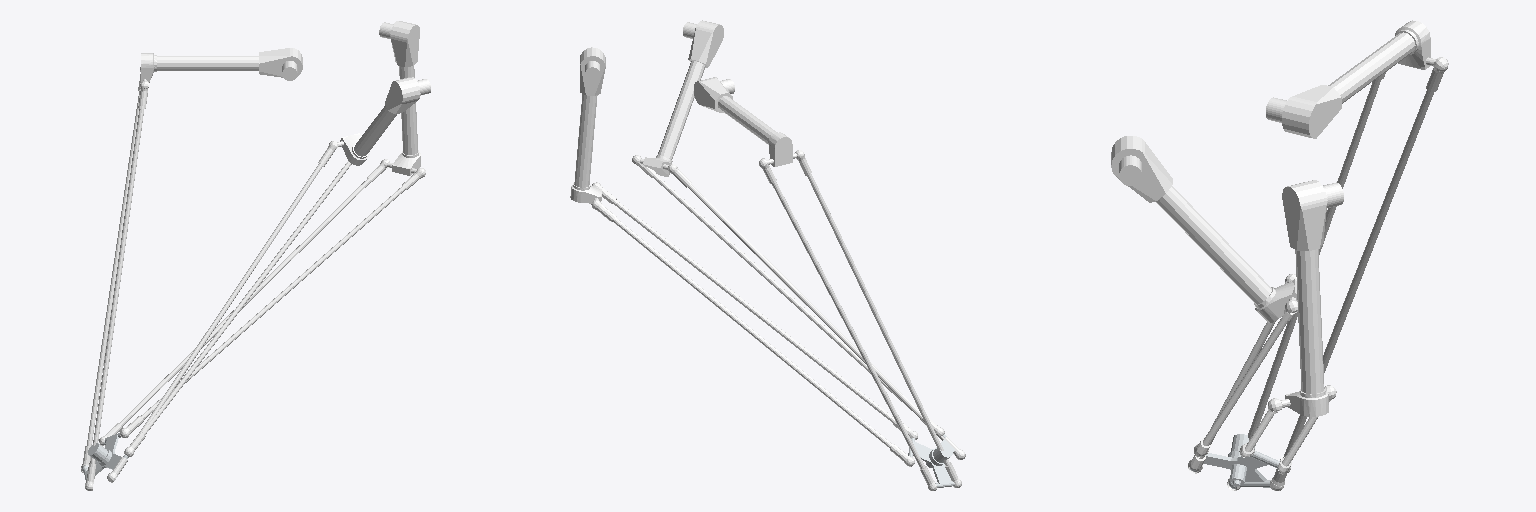
The robot description file, URDF, robot "delta5":
<?xml version="1.0" encoding="utf-8"?>
<!-- This URDF was automatically created by SolidWorks to URDF Exporter! Originally created by [author] ([email redacted]) 
     Commit Version: 1.6.0-1-g15f4949  Build Version: 1.6.7594.29634
     For more information, please see http://wiki.ros.org/sw_urdf_exporter -->
<robot
  name="delta5">
  <link
    name="base_link">
    <inertial>
      <origin
        xyz="0.380382318022096 -0.533525803977991 0.659302446320337"
        rpy="0 0 0" />
      <mass
        value="156.162689770185" />
      <inertia
        ixx="7.59889681143528"
        ixy="9.24660486503447E-05"
        ixz="-0.000259409545019094"
        iyy="7.59824264740178"
        iyz="0.000102275137498766"
        izz="10.3617884952824" />
    </inertial>
    <visual>
      <origin
        xyz="0 0 0"
        rpy="0 0 0" />
      <geometry>
        <mesh
          filename="package://delta5/meshes/base_link.STL" />
      </geometry>
      <material
        name="">
        <color
          rgba="1 1 1 1" />
      </material>
    </visual>
    <collision>
      <origin
        xyz="0 0 0"
        rpy="0 0 0" />
      <geometry>
        <mesh
          filename="package://delta5/meshes/base_link.STL" />
      </geometry>
    </collision>
  </link>
  <link
    name="upper_arm1">
    <inertial>
      <origin
        xyz="-0.0772669415657757 0.0849140062560085 0.0495423298621972"
        rpy="0 0 0" />
      <mass
        value="0.646884056050241" />
      <inertia
        ixx="0.00368901373566654"
        ixy="0.00329186526144872"
        ixz="2.44706619569249E-09"
        iyy="0.00323335222760884"
        iyz="-2.88122467785978E-09"
        izz="0.00677708927245829" />
    </inertial>
    <visual>
      <origin
        xyz="0 0 0"
        rpy="0 0 0" />
      <geometry>
        <mesh
          filename="package://delta5/meshes/upper_arm1.STL" />
      </geometry>
      <material
        name="">
        <color
          rgba="1 1 1 1" />
      </material>
    </visual>
    <collision>
      <origin
        xyz="0 0 0"
        rpy="0 0 0" />
      <geometry>
        <mesh
          filename="package://delta5/meshes/upper_arm1.STL" />
      </geometry>
    </collision>
  </link>
  <joint
    name="joint1"
    type="revolute">
    <origin
      xyz="0.332874358144467 -0.683521580995339 0.398756986704061"
      rpy="-1.5707963267949 0 -1.5707963267949" />
    <parent
      link="base_link" />
    <child
      link="upper_arm1" />
    <axis
      xyz="0 0 1" />
    <limit
      lower="0"
      upper="3.1416"
      effort="0"
      velocity="0" />
  </joint>
  <link
    name="lower_arm1">
    <inertial>
      <origin
        xyz="0.305243815466317 -0.568653741162233 0.0533304761799087"
        rpy="0 0 0" />
      <mass
        value="0.254921518427184" />
      <inertia
        ixx="0.0118514019298931"
        ixy="0.0040954899077567"
        ixz="0.00596521085510995"
        iyy="0.0124866840659664"
        iyz="-0.00553014190988848"
        izz="0.00825919672641359" />
    </inertial>
    <visual>
      <origin
        xyz="0 0 0"
        rpy="0 0 0" />
      <geometry>
        <mesh
          filename="package://delta5/meshes/lower_arm1.STL" />
      </geometry>
      <material
        name="">
        <color
          rgba="1 1 1 1" />
      </material>
    </visual>
    <collision>
      <origin
        xyz="0 0 0"
        rpy="0 0 0" />
      <geometry>
        <mesh
          filename="package://delta5/meshes/lower_arm1.STL" />
      </geometry>
    </collision>
  </link>
  <joint
    name="joint_lower1"
    type="revolute">
    <origin
      xyz="0.272569839075917 0.0246294631227099 0.00529664007075714"
      rpy="-0.0325087905561728 1.17076498742548 -2.67328944867135" />
    <parent
      link="upper_arm1" />
    <child
      link="lower_arm1" />
    <axis
      xyz="0.558523722970762 0 0.82948854776837" />
    <limit
      lower="0"
      upper="0"
      effort="0"
      velocity="0" />
  </joint>
  <link
    name="upper_arm2">
    <inertial>
      <origin
        xyz="0.00746270098089197 -0.114563886294091 0.184356676189367"
        rpy="0 0 0" />
      <mass
        value="0.646884330226788" />
      <inertia
        ixx="0.00674276377529085"
        ixy="0.00034571620880866"
        ixz="3.26137238092564E-10"
        iyy="0.000179603424889719"
        iyz="-3.58039165616929E-09"
        izz="0.00677709049640156" />
    </inertial>
    <visual>
      <origin
        xyz="0 0 0"
        rpy="0 0 0" />
      <geometry>
        <mesh
          filename="package://delta5/meshes/upper_arm2.STL" />
      </geometry>
      <material
        name="">
        <color
          rgba="1 1 1 1" />
      </material>
    </visual>
    <collision>
      <origin
        xyz="0 0 0"
        rpy="0 0 0" />
      <geometry>
        <mesh
          filename="package://delta5/meshes/upper_arm2.STL" />
      </geometry>
    </collision>
  </link>
  <joint
    name="joint2"
    type="revolute">
    <origin
      xyz="0.417078668164106 -0.297095310806117 0.398756986704061"
      rpy="1.5707963267949 0 0.523598775598305" />
    <parent
      link="base_link" />
    <child
      link="upper_arm2" />
    <axis
      xyz="0 0 1" />
    <limit
      lower="-1.8717"
      upper="1.2699"
      effort="0"
      velocity="0" />
  </joint>
  <link
    name="lower_arm2">
    <inertial>
      <origin
        xyz="0.224344371336868 -0.686207860333844 0.223349943784725"
        rpy="0 0 0" />
      <mass
        value="0.254921515362049" />
      <inertia
        ixx="0.0120825883882364"
        ixy="0.00679387988965409"
        ixz="-0.00214684877842503"
        iyy="0.0053127502152272"
        iyz="0.00345662979857584"
        izz="0.0152019435726505" />
    </inertial>
    <visual>
      <origin
        xyz="0 0 0"
        rpy="0 0 0" />
      <geometry>
        <mesh
          filename="package://delta5/meshes/lower_arm2.STL" />
      </geometry>
      <material
        name="">
        <color
          rgba="1 1 1 1" />
      </material>
    </visual>
    <collision>
      <origin
        xyz="0 0 0"
        rpy="0 0 0" />
      <geometry>
        <mesh
          filename="package://delta5/meshes/lower_arm2.STL" />
      </geometry>
    </collision>
  </link>
  <joint
    name="joint_lower2"
    type="revolute">
    <origin
      xyz="0.161268370049302 0.0346872050122739 0.314264003482573"
      rpy="3.12859851500547 0.227751807455416 2.64041159012637" />
    <parent
      link="upper_arm2" />
    <child
      link="lower_arm2" />
    <axis
      xyz="0.699045374184477 0 -0.71507731388381" />
    <limit
      lower="0"
      upper="0"
      effort="0"
      velocity="0" />
  </joint>
  <link
    name="upper_arm3">
    <inertial>
      <origin
        xyz="0.114792190956305 -0.00182152531048918 -0.0251673198673822"
        rpy="0 0 0" />
      <mass
        value="0.646883970811699" />
      <inertia
        ixx="0.000166776836705839"
        ixy="0.000187543268799434"
        ixz="3.21501575890697E-09"
        iyy="0.00675558779094134"
        iyz="3.68581737254154E-11"
        izz="0.00677708810261763" />
    </inertial>
    <visual>
      <origin
        xyz="0 0 0"
        rpy="0 0 0" />
      <geometry>
        <mesh
          filename="package://delta5/meshes/upper_arm3.STL" />
      </geometry>
      <material
        name="">
        <color
          rgba="1 1 1 1" />
      </material>
    </visual>
    <collision>
      <origin
        xyz="0 0 0"
        rpy="0 0 0" />
      <geometry>
        <mesh
          filename="package://delta5/meshes/upper_arm3.STL" />
      </geometry>
    </collision>
  </link>
  <joint
    name="joint3"
    type="revolute">
    <origin
      xyz="0.2620330475768 -0.438494743532825 0.398756986704061"
      rpy="1.5707963267949 0 2.6179938779915" />
    <parent
      link="base_link" />
    <child
      link="upper_arm3" />
    <axis
      xyz="0 0 1" />
    <limit
      lower="-2.312"
      upper="0.82957"
      effort="0"
      velocity="0" />
  </joint>
  <link
    name="lower_arm3">
    <inertial>
      <origin
        xyz="0.289469393043794 -0.183766775489447 -0.0138263076600468"
        rpy="0 0 0" />
      <mass
        value="0.254921518191912" />
      <inertia
        ixx="0.00895130993669267"
        ixy="0.00808825967037824"
        ixz="-0.00049418180273105"
        iyy="0.00738467542547735"
        iyz="0.000547291804756227"
        izz="0.0162612973182856" />
    </inertial>
    <visual>
      <origin
        xyz="0 0 0"
        rpy="0 0 0" />
      <geometry>
        <mesh
          filename="package://delta5/meshes/lower_arm3.STL" />
      </geometry>
      <material
        name="">
        <color
          rgba="1 1 1 1" />
      </material>
    </visual>
    <collision>
      <origin
        xyz="0 0 0"
        rpy="0 0 0" />
      <geometry>
        <mesh
          filename="package://delta5/meshes/lower_arm3.STL" />
      </geometry>
    </collision>
  </link>
  <joint
    name="joint_lower3"
    type="revolute">
    <origin
      xyz="0.230483769451967 -0.125613066735207 0.0154970866079977"
      rpy="0.0159234215285503 0.651825739186271 -0.488586704778935" />
    <parent
      link="upper_arm3" />
    <child
      link="lower_arm3" />
    <axis
      xyz="0 1 0" />
    <limit
      lower="0"
      upper="0"
      effort="0"
      velocity="0" />
  </joint>
  <link
    name="target">
    <inertial>
      <origin
        xyz="0.594229673345362 0.0159957692466067 -0.00777458017718657"
        rpy="0 0 0" />
      <mass
        value="0.207397060095326" />
      <inertia
        ixx="0.000224721124917696"
        ixy="5.08128531289731E-05"
        ixz="1.23510379127989E-05"
        iyy="0.000222076634528566"
        iyz="1.20338360800867E-05"
        izz="0.000175493857687923" />
    </inertial>
    <visual>
      <origin
        xyz="0 0 0"
        rpy="0 0 0" />
      <geometry>
        <mesh
          filename="package://delta5/meshes/target.STL" />
      </geometry>
      <material
        name="">
        <color
          rgba="0.898039215686275 0.917647058823529 0.929411764705882 1" />
      </material>
    </visual>
    <collision>
      <origin
        xyz="0 0 0"
        rpy="0 0 0" />
      <geometry>
        <mesh
          filename="package://delta5/meshes/target.STL" />
      </geometry>
    </collision>
  </link>
  <joint
    name="joint_targer"
    type="fixed">
    <origin
      xyz="0.380374358144462 -0.533521580995337 -0.325140520136826"
      rpy="1.5707963267949 0 -3.14159265358979" />
    <parent
      link="base_link" />
    <child
      link="target" />
    <axis
      xyz="0 0 0" />
  </joint>
</robot>

--- Render facts (derived) ---
The picture shows the robot from 3 angles, left to right: view 1: azimuth 30°, elevation 25°; view 2: azimuth 150°, elevation 25°; view 3: azimuth 270°, elevation 25°; orthographic projection.
Robot: delta5 — 8 links, 7 joints (6 revolute, 1 fixed); root link base_link; default pose: all joints at 0.
Visible links, largest first — view 1: lower_arm1, lower_arm3, lower_arm2, upper_arm3, upper_arm2, upper_arm1, target; view 2: lower_arm2, lower_arm3, lower_arm1, upper_arm1, upper_arm2, upper_arm3, target; view 3: upper_arm2, upper_arm1, upper_arm3, lower_arm3, lower_arm1, target, lower_arm2.
Link boxes in pixels (x1,y1,x2,y2): lower_arm1: (107, 141, 351, 482); lower_arm3: (81, 67, 148, 490); lower_arm2: (99, 159, 425, 445); upper_arm3: (141, 48, 302, 87); upper_arm2: (379, 21, 420, 175); upper_arm1: (338, 77, 430, 165); target: (82, 433, 128, 480); lower_arm2: (591, 182, 917, 466); lower_arm3: (759, 150, 961, 490); lower_arm1: (632, 155, 965, 459); upper_arm1: (640, 20, 723, 176); upper_arm2: (570, 47, 605, 203); upper_arm3: (694, 77, 796, 166); target: (908, 434, 954, 487); upper_arm2: (1274, 180, 1343, 416); upper_arm1: (1111, 136, 1297, 322); upper_arm3: (1266, 20, 1435, 138); lower_arm3: (1227, 57, 1448, 490); lower_arm1: (1188, 274, 1297, 473); target: (1190, 434, 1279, 488); lower_arm2: (1239, 385, 1336, 474).
Bounding box of the posed robot: 0.8132 × 0.4358 × 0.7916 m (x, y, z).
Meshes: 8 distinct files referenced, 7 mesh visuals loaded (7 binary STL); not drawn: 1 (reference not matched to a file when rendering).